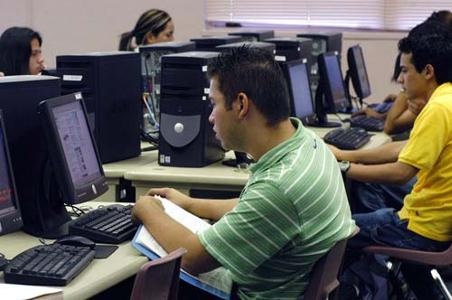person: (133, 61, 354, 300)
